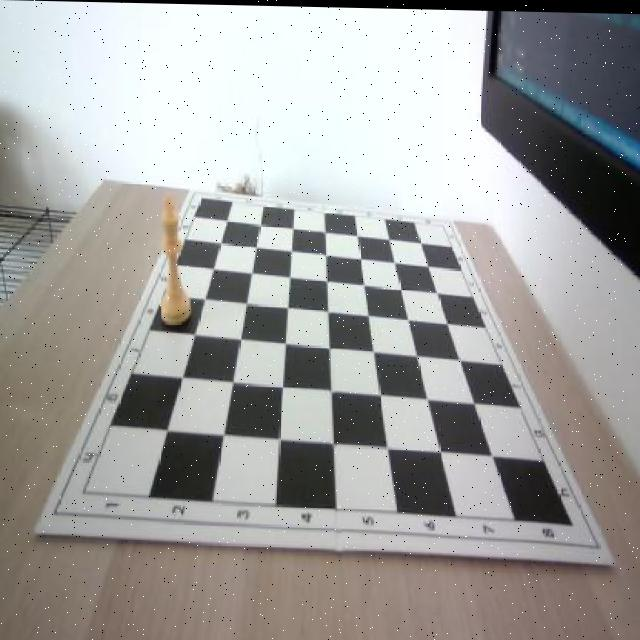white-bishop: (158, 194, 192, 324)
